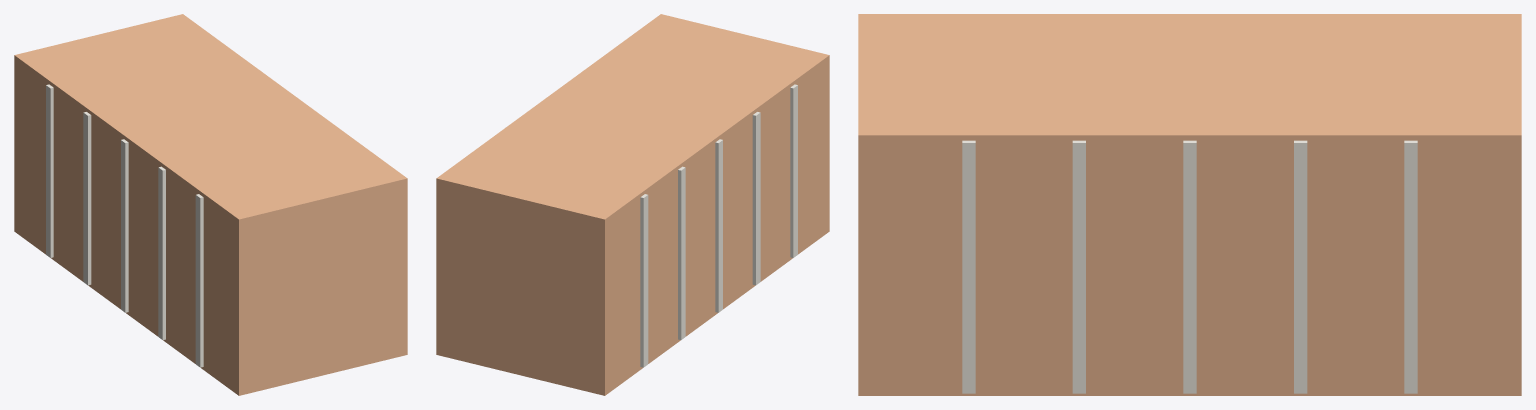
The model's file is shipping_container.glb.
3 views of the same model, side by side, from view 1: azimuth 30°, elevation 25°; view 2: azimuth 150°, elevation 25°; view 3: azimuth 270°, elevation 25° (orthographic). The views are drawn at different scales.
Parts seen in each view (by area): view 1: shipping_container__container, shipping_container__rib.006, shipping_container__rib, shipping_container__rib.008, shipping_container__rib.004, shipping_container__rib.002; view 2: shipping_container__container, shipping_container__rib.002, shipping_container__rib.008, shipping_container__rib, shipping_container__rib.004, shipping_container__rib.006; view 3: shipping_container__container, shipping_container__rib.001, shipping_container__rib.005, shipping_container__rib.009, shipping_container__rib.003, shipping_container__rib.007.
Boxes of the visible parts, x1,y1,x2,y2 form: shipping_container__container: (14,14,407,395); shipping_container__rib.006: (83,112,91,285); shipping_container__rib: (195,194,203,367); shipping_container__rib.008: (46,84,53,257); shipping_container__rib.004: (121,139,128,312); shipping_container__rib.002: (158,166,165,339); shipping_container__container: (436,14,829,395); shipping_container__rib.002: (752,112,760,285); shipping_container__rib.008: (640,194,648,367); shipping_container__rib: (790,84,797,257); shipping_container__rib.004: (715,139,722,312); shipping_container__rib.006: (678,166,685,339); shipping_container__container: (858,14,1521,395); shipping_container__rib.001: (962,140,975,393); shipping_container__rib.005: (1183,140,1196,393); shipping_container__rib.009: (1404,140,1417,393); shipping_container__rib.003: (1072,140,1085,393); shipping_container__rib.007: (1294,140,1307,393).
Bounding box in the file's own units: 2.71 × 2.6 × 6.
